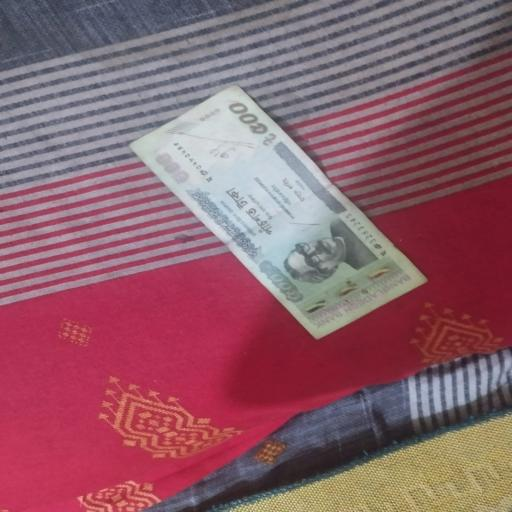500taka: (130, 82, 433, 334)
